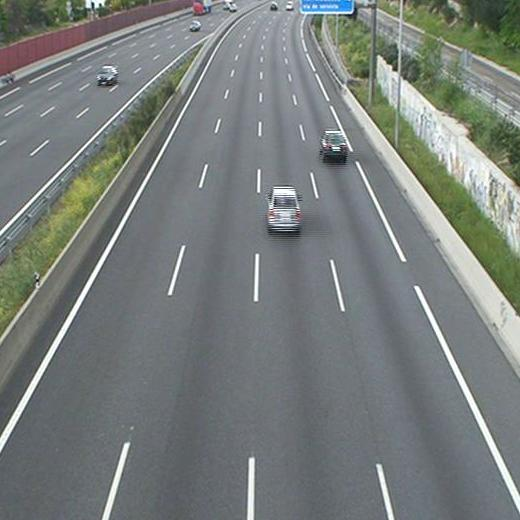car: (264, 186, 302, 235), (320, 129, 348, 165)
